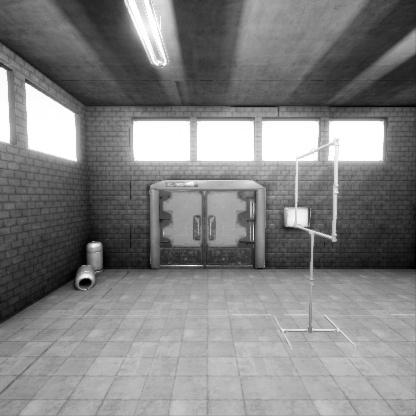gate: (294, 179, 340, 281)
